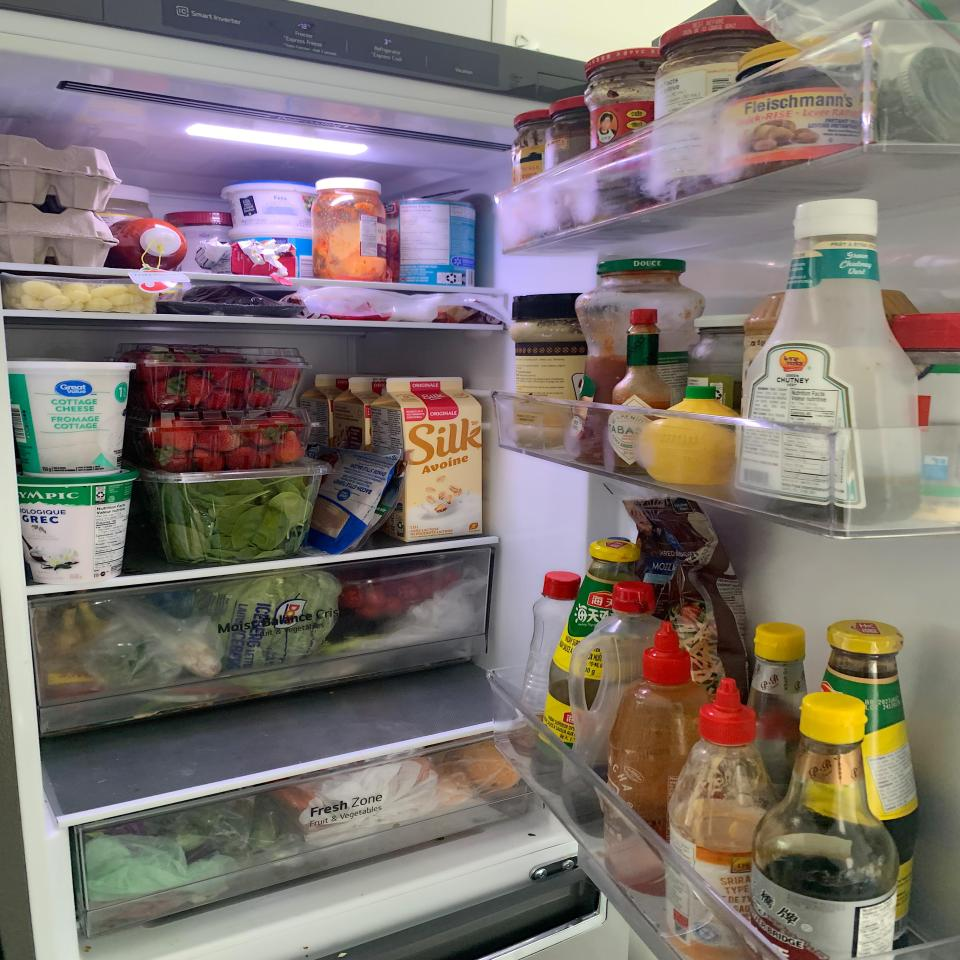Huevos: (1, 134, 122, 212), (0, 202, 119, 267)
Lechuga/Endivia: (189, 571, 342, 673)
Tomate: (340, 563, 461, 619)
Yogur: (20, 472, 146, 584)
